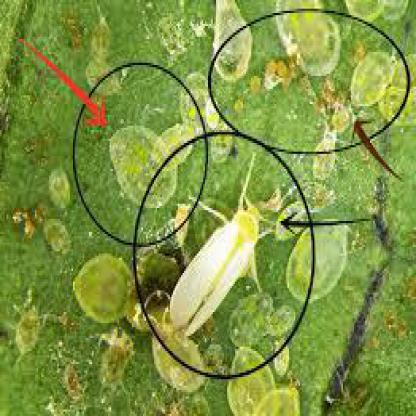whitefly: (168, 206, 262, 338)
